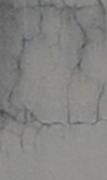fissura: (0, 0, 105, 147)
